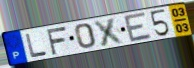0: (74, 23, 98, 50)
5: (149, 8, 171, 38)
E: (123, 10, 154, 44)
F: (45, 25, 68, 56)
L: (24, 32, 49, 59)
X: (92, 16, 127, 48)
